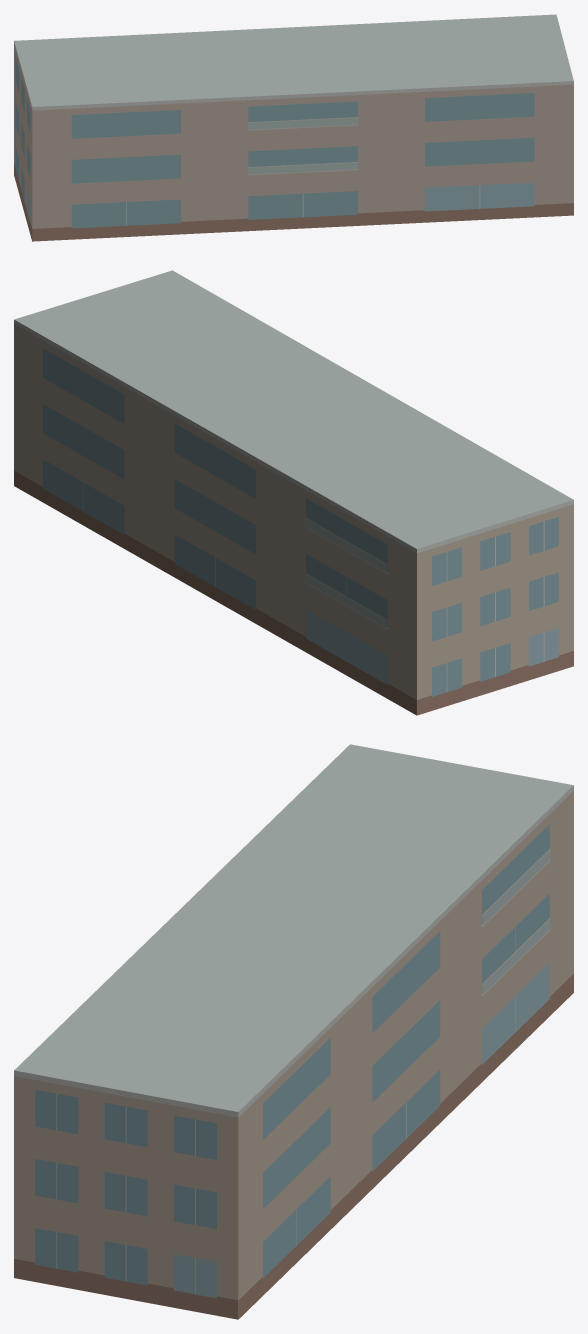
File: survey-upis-32658809.glb
3 renders of one model, top to bottom at view 1: azimuth 30°, elevation 25°; view 2: azimuth 150°, elevation 25°; view 3: azimuth 270°, elevation 25°, orthographic. The views are drawn at different scales.
Visible parts, largest first — view 1: survey-upis-32658809.tmp; view 2: survey-upis-32658809.tmp; view 3: survey-upis-32658809.tmp.
Boxes of the visible parts, x1,y1,x2,y2 form: survey-upis-32658809.tmp: (14,14,573,241); survey-upis-32658809.tmp: (14,270,573,715); survey-upis-32658809.tmp: (14,744,573,1319).
Bounding box in the file's own units: 34.78 × 9.15 × 22.37.
